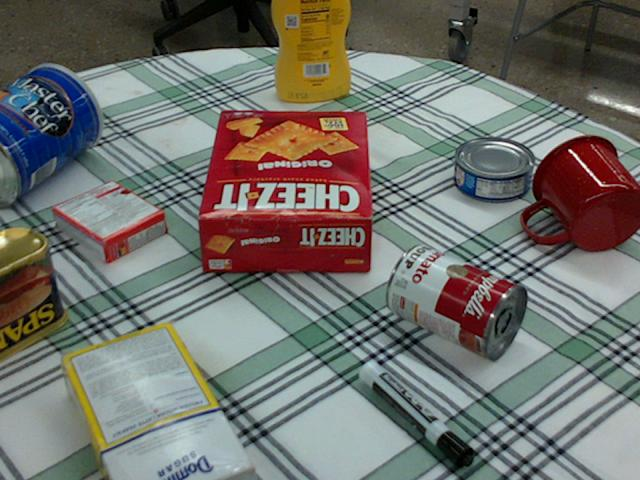cracker_box: (193, 108, 369, 272)
gelatin_box: (53, 179, 166, 264)
large_marker: (360, 360, 473, 470)
master_chef_can: (0, 64, 101, 209)
mug: (523, 134, 639, 251)
mustard_bottle: (271, 0, 350, 102)
potted_meat_can: (0, 225, 68, 360)
sugar_box: (55, 324, 252, 479)
tomato_soup_can: (385, 242, 527, 360)
tuna_fish_can: (454, 137, 535, 201)
